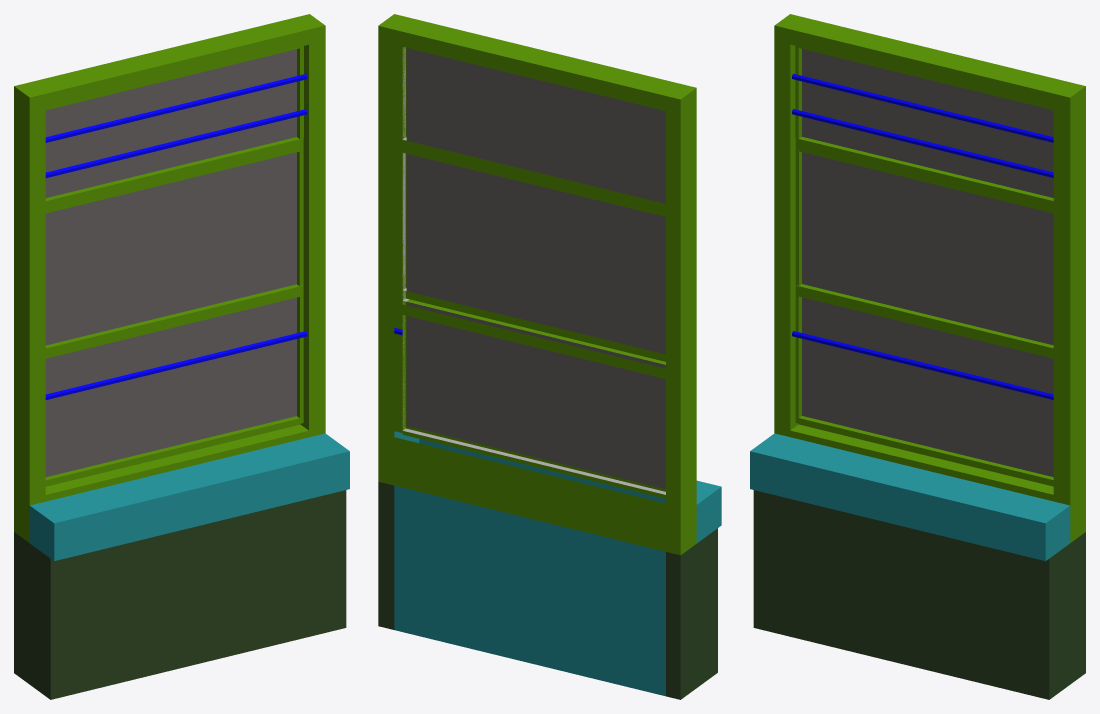
The model's file is Window_outside.fbx.
3 views of the same model, side by side, from view 1: azimuth 30°, elevation 25°; view 2: azimuth 150°, elevation 25°; view 3: azimuth 330°, elevation 25° (orthographic). The views are drawn at different scales.
Visible parts, largest first — view 1: polySurface13.001; view 2: polySurface13.001; view 3: polySurface13.001.
Part boxes in pixels (<box>): polySurface13.001: <box>14,14,349,699</box>; polySurface13.001: <box>378,14,721,699</box>; polySurface13.001: <box>750,14,1085,699</box>.
Size of the model in its own units: 201 by 381 by 47.26.
